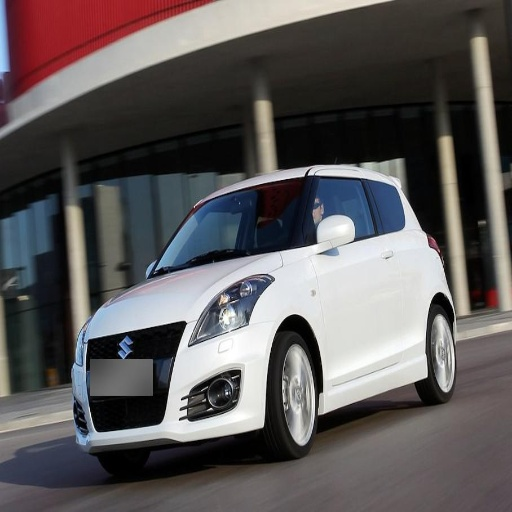front_bumper: (73, 311, 277, 450)
front_glass: (158, 181, 309, 273)
front_left_door: (314, 179, 397, 385)
